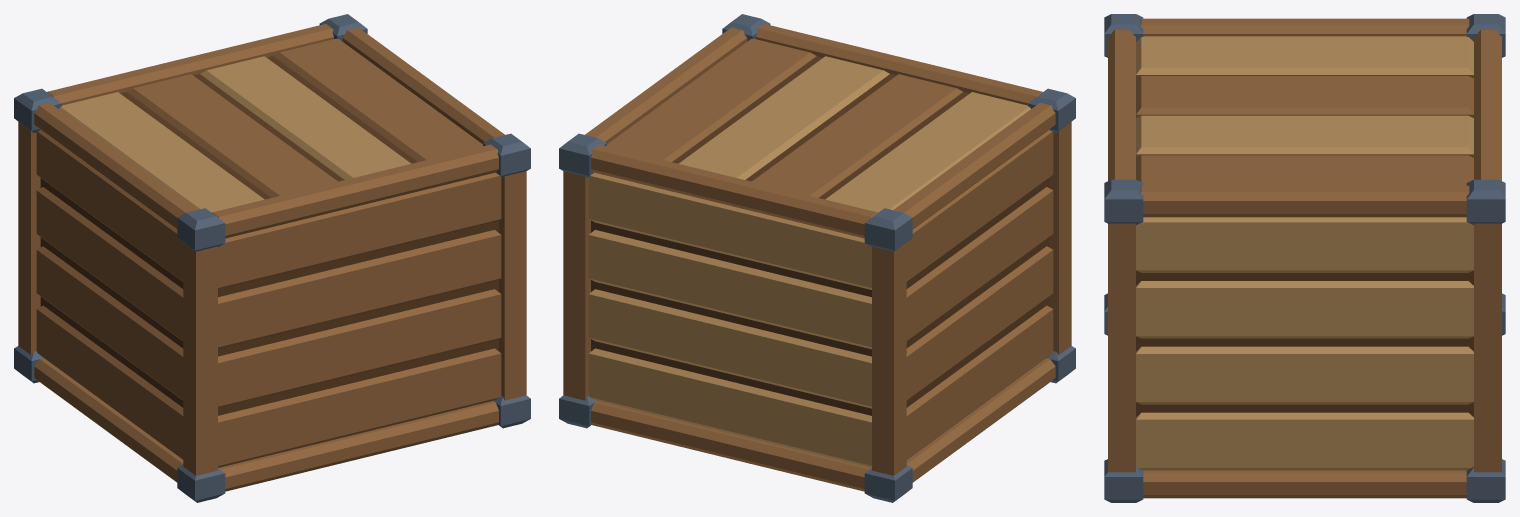
File: Crate_28.glb
3 views of the same model, side by side, from view 1: azimuth 30°, elevation 25°; view 2: azimuth 150°, elevation 25°; view 3: azimuth 270°, elevation 25° (orthographic). The views are drawn at different scales.
Parts seen in each view (by area): view 1: Crate_28; view 2: Crate_28; view 3: Crate_28.
Part boxes in pixels (x1,y1,x2,y2): Crate_28: (14, 14, 530, 502); Crate_28: (559, 14, 1075, 502); Crate_28: (1104, 14, 1505, 502).
Bounding box in the file's own units: 2.44 × 1.95 × 2.27.
